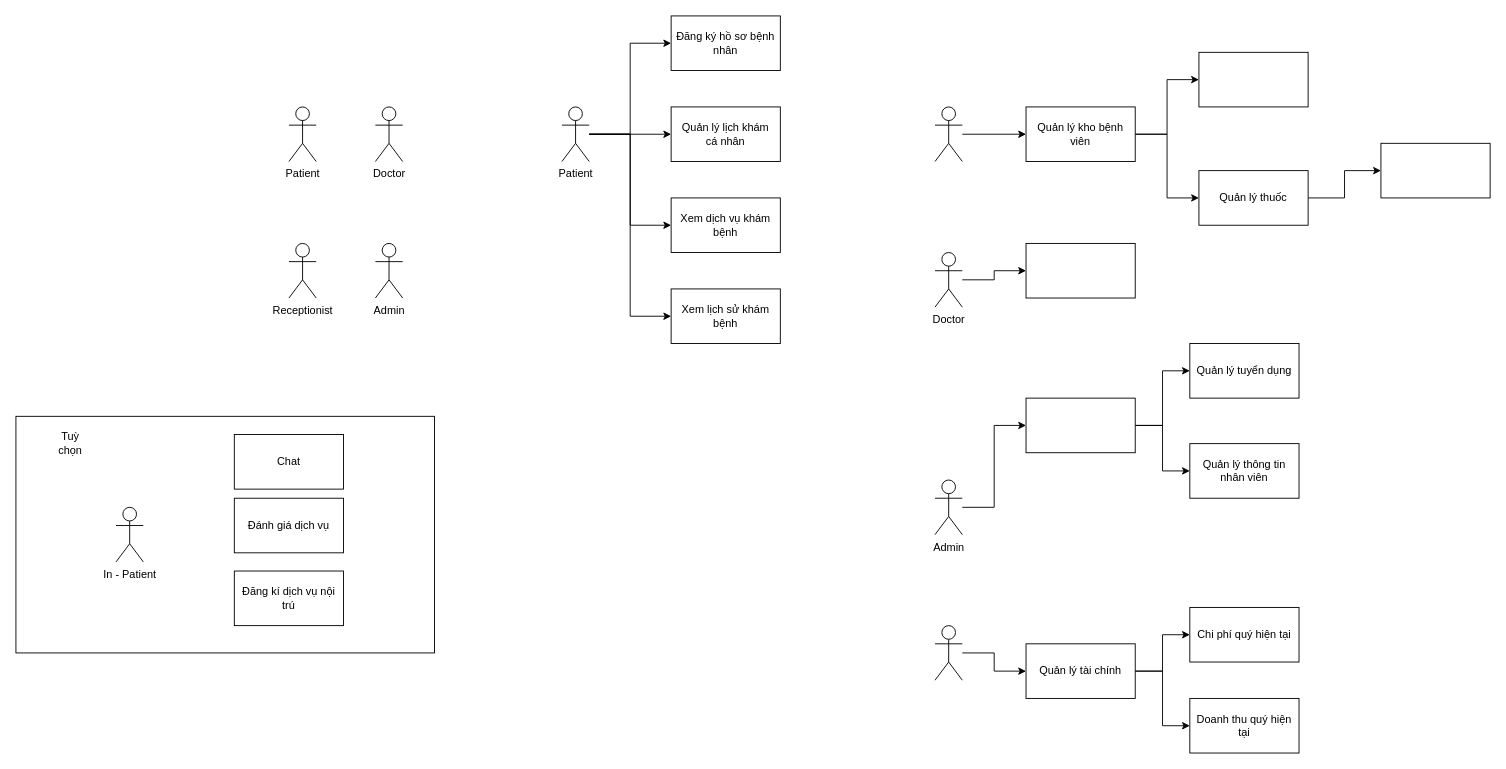
Image size: 1506x769. Some labels were removed from this diagram. Each missing label, with the centre of its shape:
Accountant: (948,652)
Quản lý hồ sơ bệnh án: (1080,270)
Quản lý nhân viên: (1080,425)
Quản lý thiết bị y tế: (1253,79)
Storage Manager: (948,134)
Xuất/Nhập thuốc: (1435,170)
